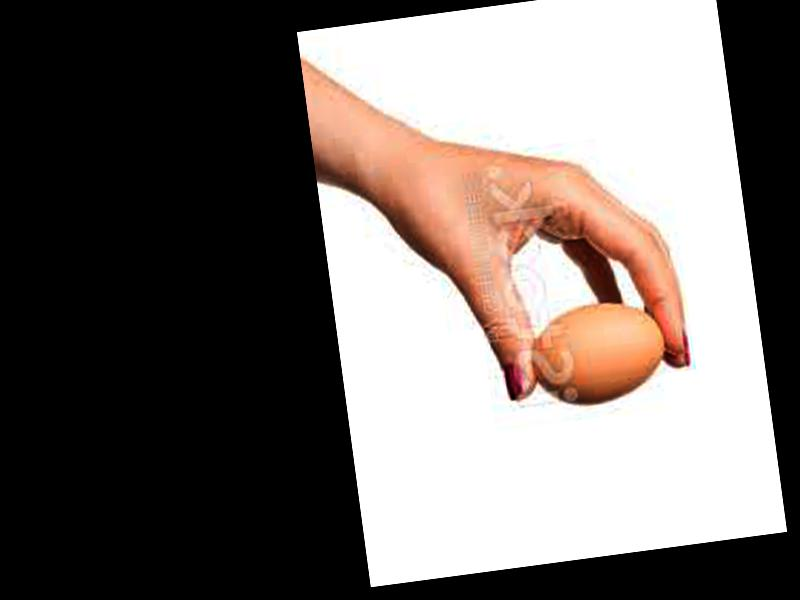Eggs: (525, 297, 670, 407)
